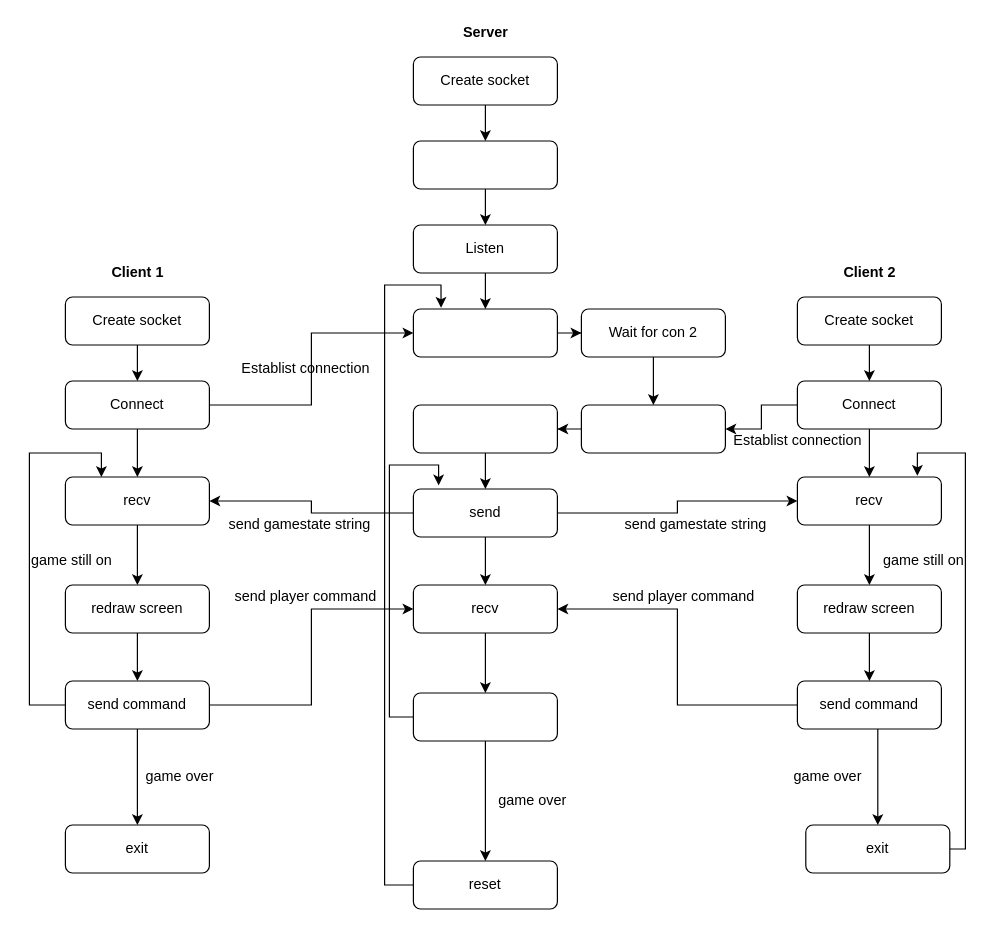
This 996x930 diagram has some shape labels left out. Here are the shapes that lost their labels. From the top down, the centre of each, then its label:
point 484,164: Bind
point 484,332: Accept con 1
point 484,428: reset/start game
point 652,428: Accept con 2
point 484,716: update game state
